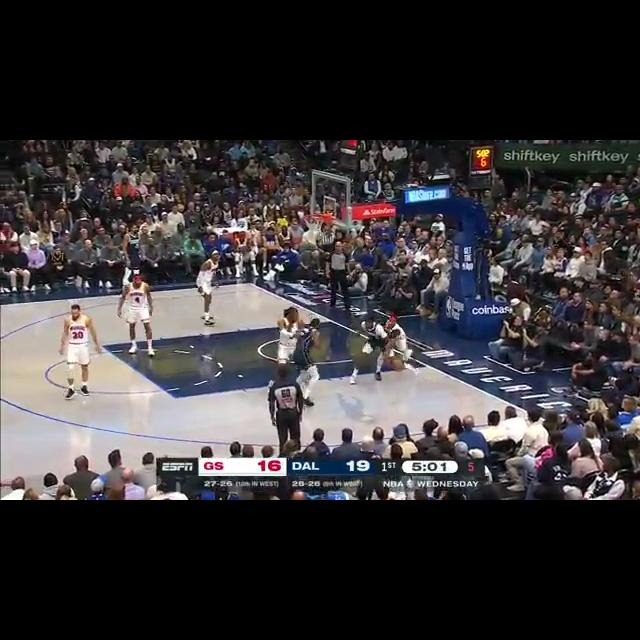Ball: (386, 356, 406, 374)
Team-1-Player: (289, 318, 325, 406), (352, 313, 386, 387), (122, 223, 148, 279)
Team-2-Player: (56, 300, 106, 402), (116, 272, 160, 358), (194, 250, 232, 332), (276, 306, 304, 366), (380, 316, 412, 368)
